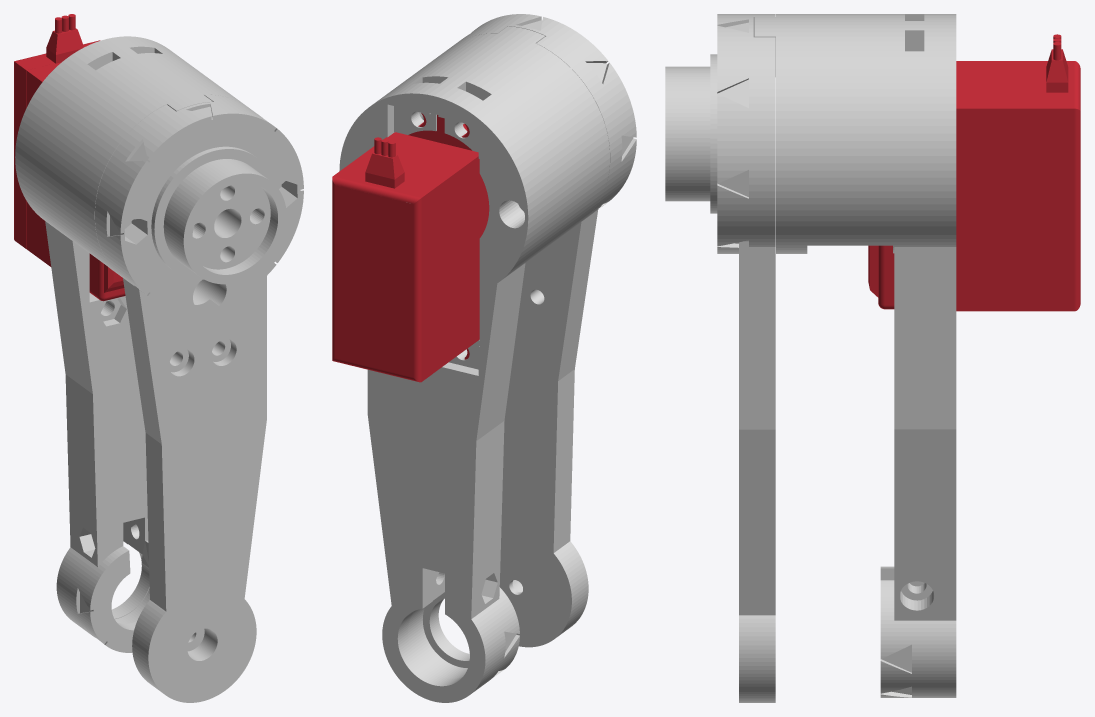
3 renders of one model, left to right at view 1: azimuth 30°, elevation 25°; view 2: azimuth 150°, elevation 25°; view 3: azimuth 270°, elevation 25°, orthographic. The views are drawn at different scales.
Visible parts, largest first — view 1: FEEEEMUR_004; view 2: FEEEEMUR_004; view 3: FEEEEMUR_004.
Boxes of the visible parts, x1,y1,x2,y2 form: FEEEEMUR_004: [14, 14, 303, 702]; FEEEEMUR_004: [332, 14, 636, 702]; FEEEEMUR_004: [665, 14, 1080, 702].
Size of the model in its own units: 0.0436 by 0.0756 by 0.1347.
